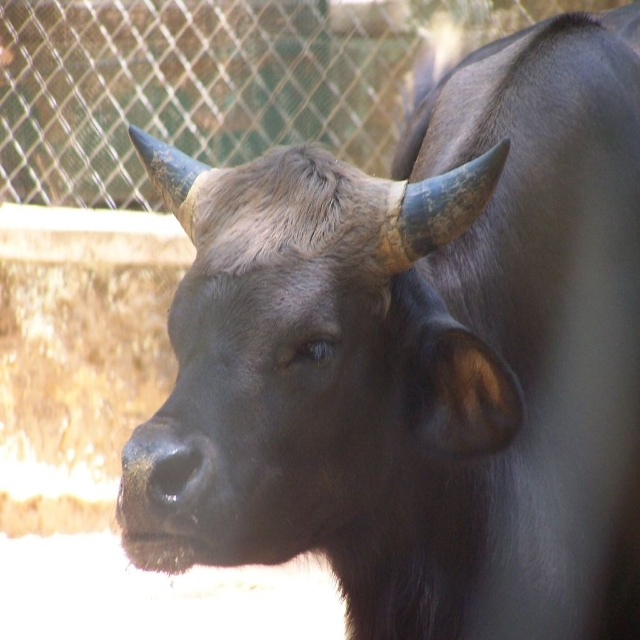Cattle: (95, 73, 590, 633)
